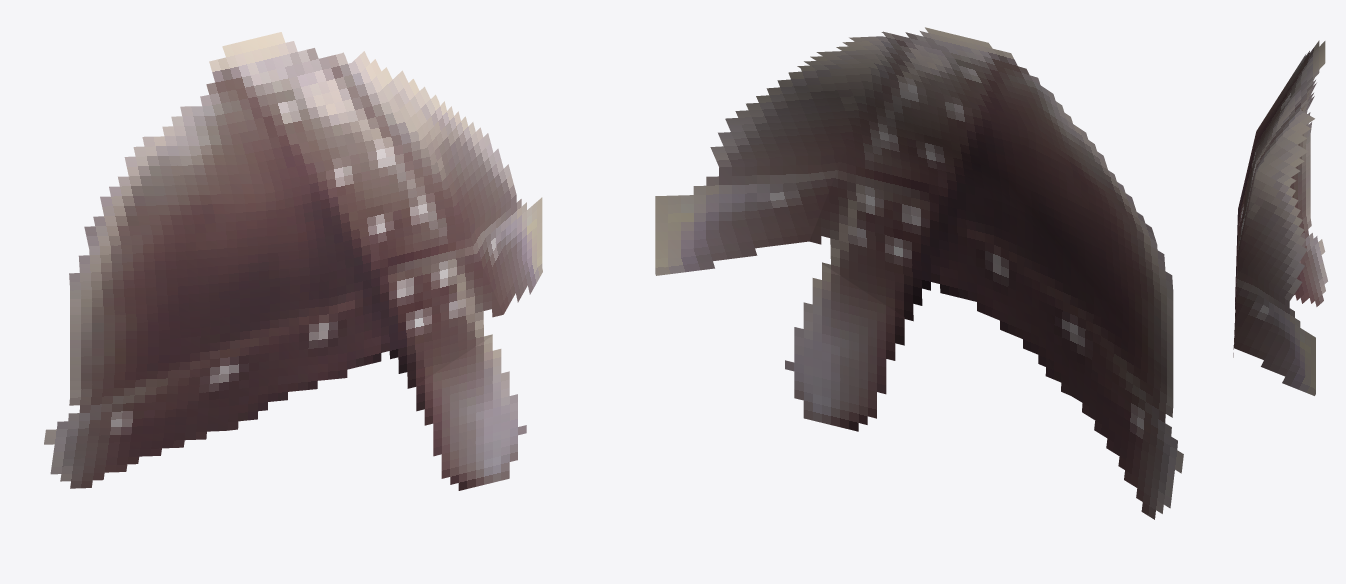
The model's file is Leather Helmet.FBX.
The picture shows the model from 3 angles, left to right: view 1: azimuth 30°, elevation 25°; view 2: azimuth 150°, elevation 25°; view 3: azimuth 270°, elevation 25°; orthographic projection. The views are drawn at different scales.
Parts seen in each view (by area): view 1: Leather Helmet; view 2: Leather Helmet; view 3: Leather Helmet.
Boxes of the visible parts, x1=… form: Leather Helmet: x1=44, y1=32, x2=542, y2=490; Leather Helmet: x1=655, y1=27, x2=1183, y2=519; Leather Helmet: x1=1233, y1=40, x2=1327, y2=395.
Bounding box in the file's own units: 24.27 × 4.8 × 22.54.
